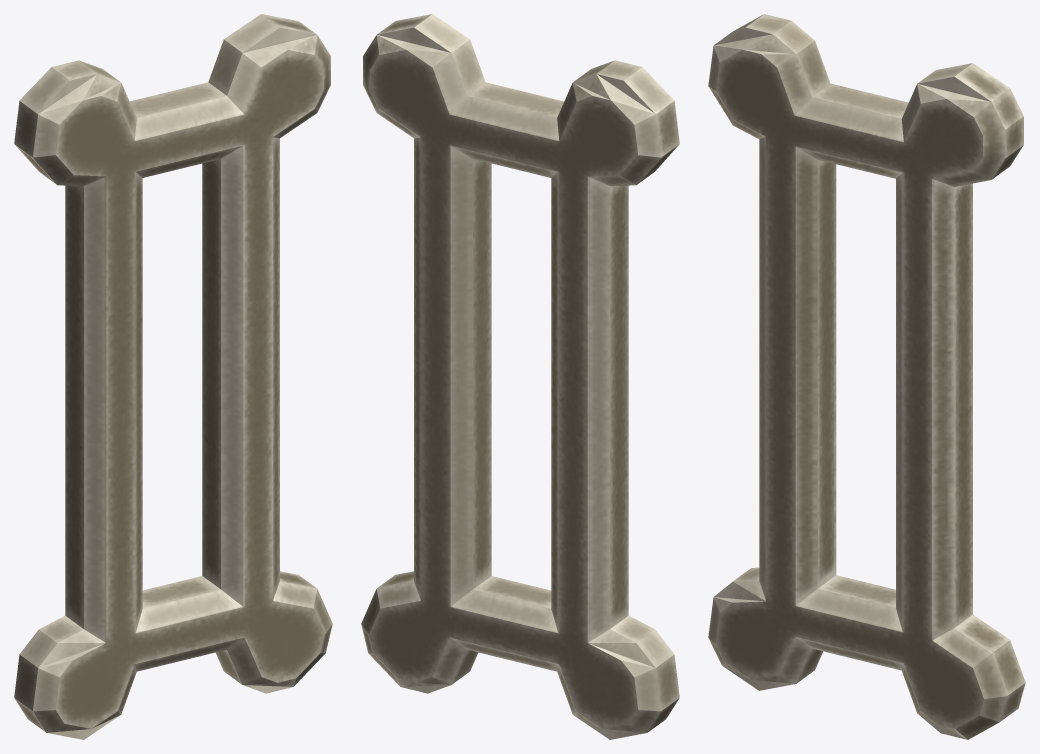
File: Snarechain_ChainLink.fbx
The picture shows the model from 3 angles, left to right: view 1: azimuth 30°, elevation 25°; view 2: azimuth 150°, elevation 25°; view 3: azimuth 330°, elevation 25°; orthographic projection.
Visible parts, largest first — view 1: Snarechain_ChainLink; view 2: Snarechain_ChainLink; view 3: Snarechain_ChainLink.
Boxes of the visible parts, bbox=[...] form: Snarechain_ChainLink: bbox=[14, 14, 332, 739]; Snarechain_ChainLink: bbox=[361, 14, 679, 739]; Snarechain_ChainLink: bbox=[708, 14, 1025, 739].
Bounding box in the file's own units: 0.1531 × 0.324 × 0.03.
